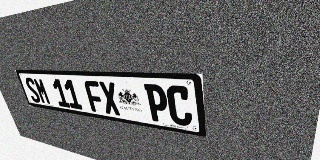1: (62, 79, 83, 110), (50, 79, 71, 108)
C: (166, 85, 193, 127)
F: (83, 81, 106, 113)
M: (33, 78, 52, 105)
P: (144, 84, 170, 123)
S: (23, 77, 42, 103)
X: (98, 81, 121, 116)
